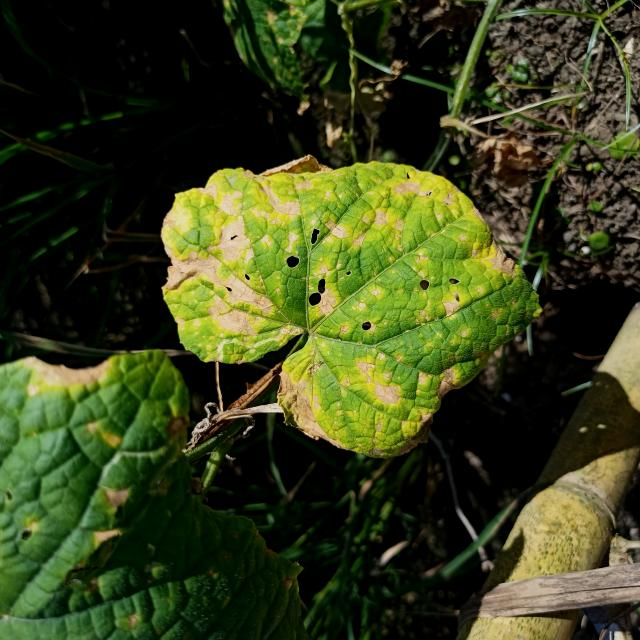disease_cucumber: (159, 163, 538, 458)
